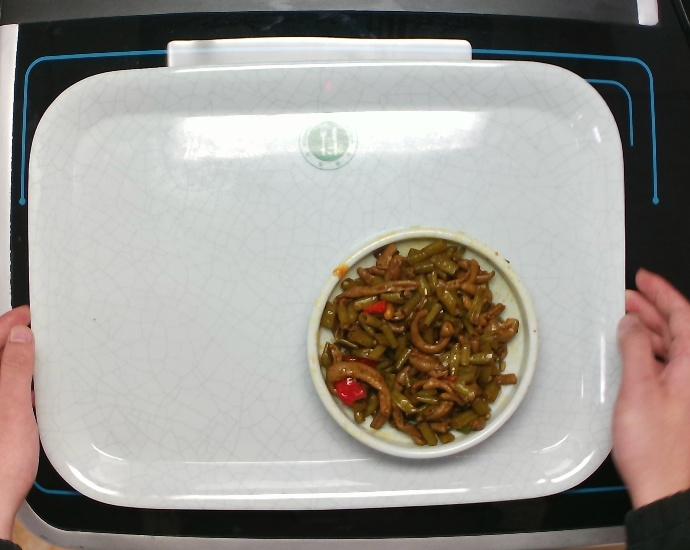JYsf-Xiao_Yuan_Pan: (306, 230, 543, 466)
